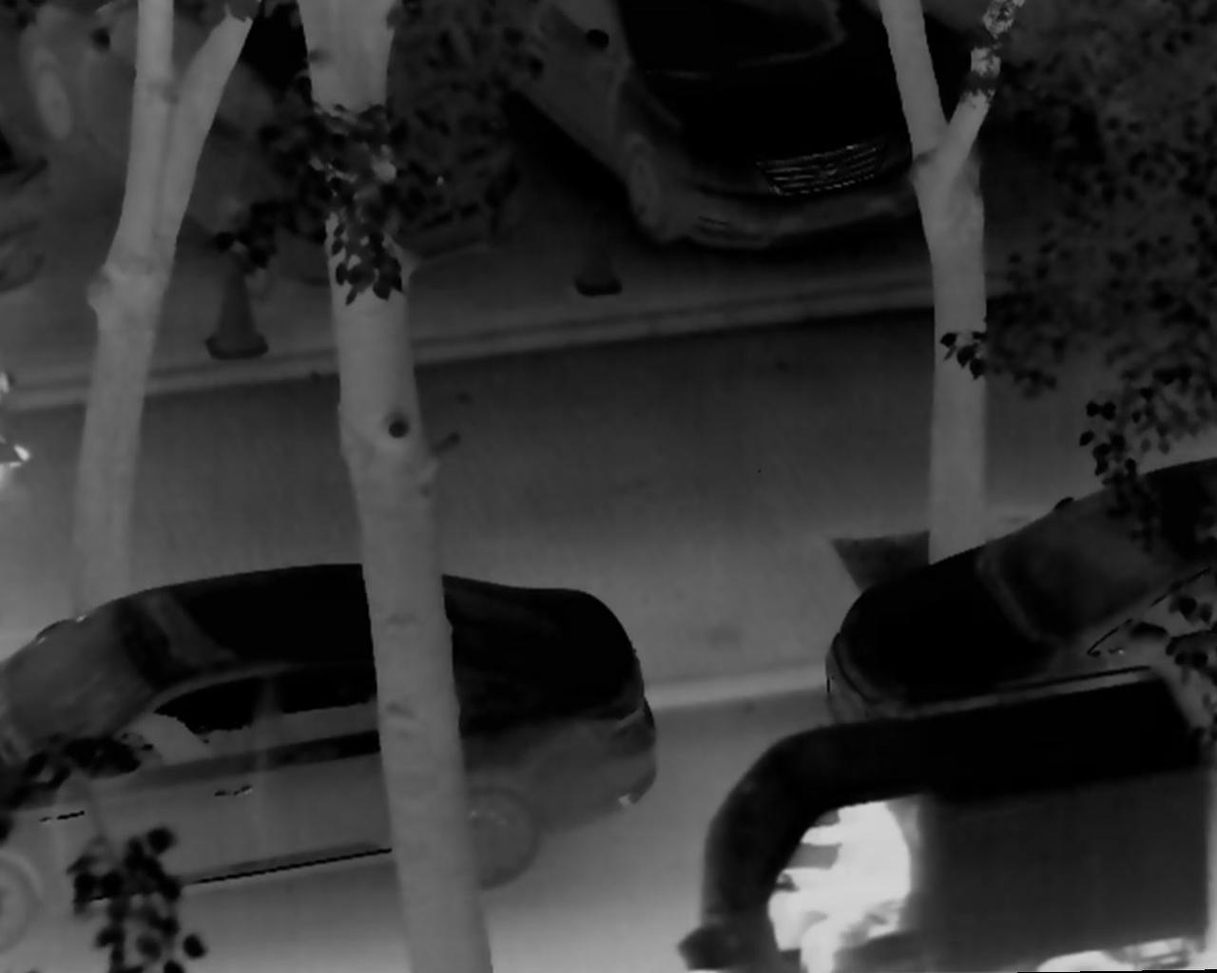person: (760, 776, 927, 973), (8, 443, 34, 476)
